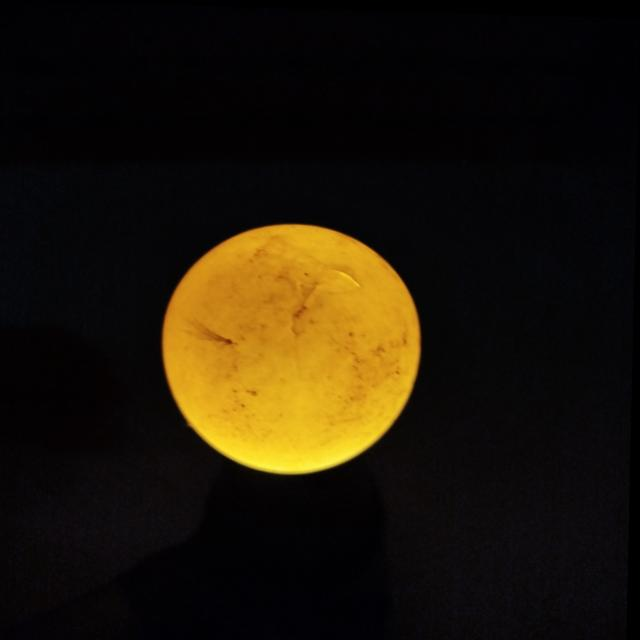Rachadura: (251, 235, 362, 335)
